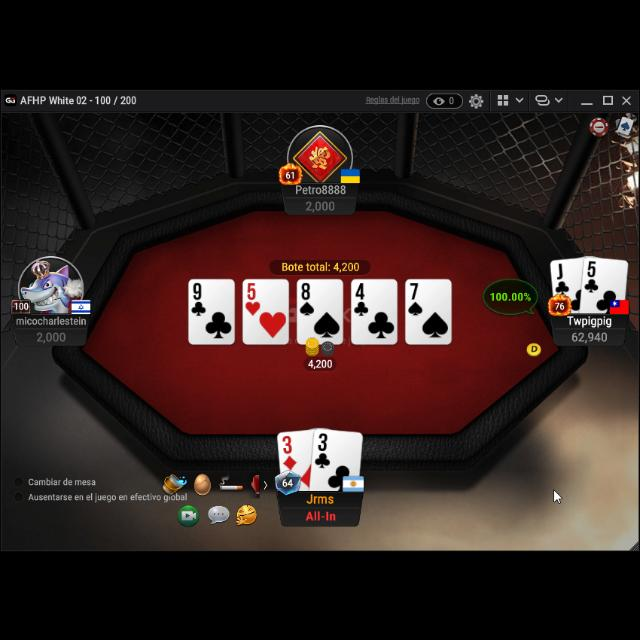3c: (313, 428, 333, 469)
3d: (282, 432, 300, 470)
4c: (352, 280, 370, 316)
5c: (583, 255, 601, 293)
5h: (244, 280, 262, 316)
7s: (406, 279, 424, 315)
8d: (281, 432, 299, 470)
8s: (298, 278, 316, 316)
9c: (190, 278, 208, 316)
Jc: (554, 259, 572, 297)
all_in_symbol: (303, 506, 337, 522)
bet_text: (307, 355, 333, 367)
dealer: (525, 338, 543, 354)
pot_text: (281, 258, 361, 270)
stack_text: (571, 328, 609, 342), (34, 328, 68, 342), (304, 197, 336, 211)
